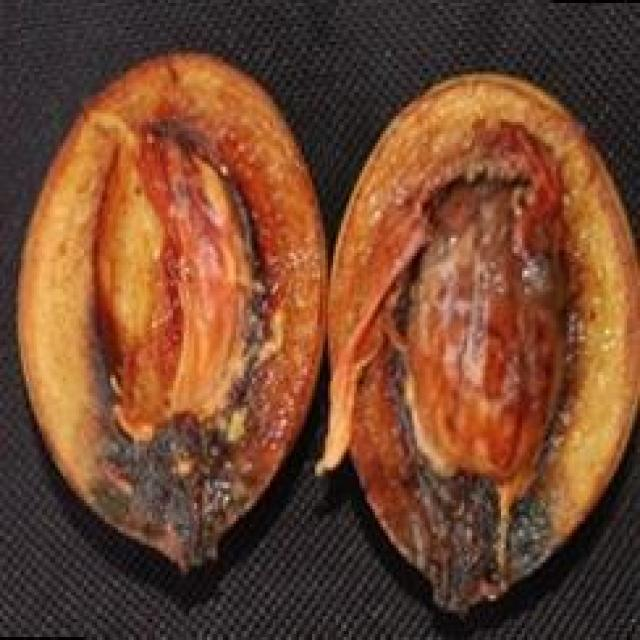damaged: (317, 77, 637, 616), (16, 51, 330, 583)
